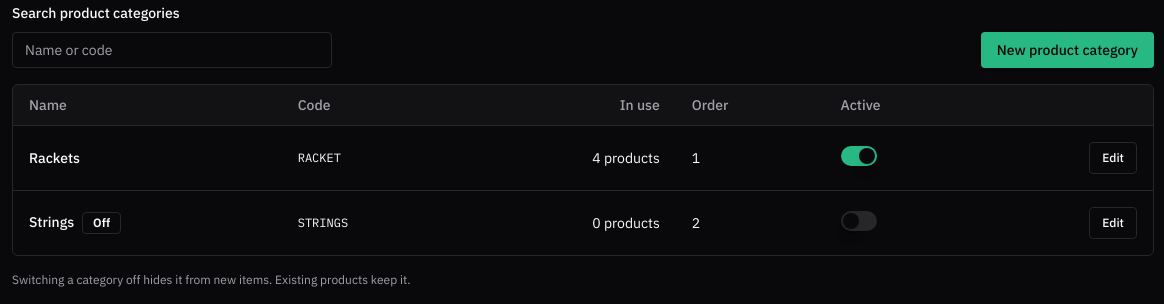
Scenario: category manager › lists categories with usage, flags switched-off ones and searches by name or code
The image size is (1164, 304).
Expected: the text "4 products" is shown, left=460, top=125, right=676, bottom=190
Expected: the text "Off" is shown, left=82, top=212, right=121, bottom=234
Type "string" into the field labelled "Search product categories" at (172, 50), box left=12, top=32, right=332, bottom=68
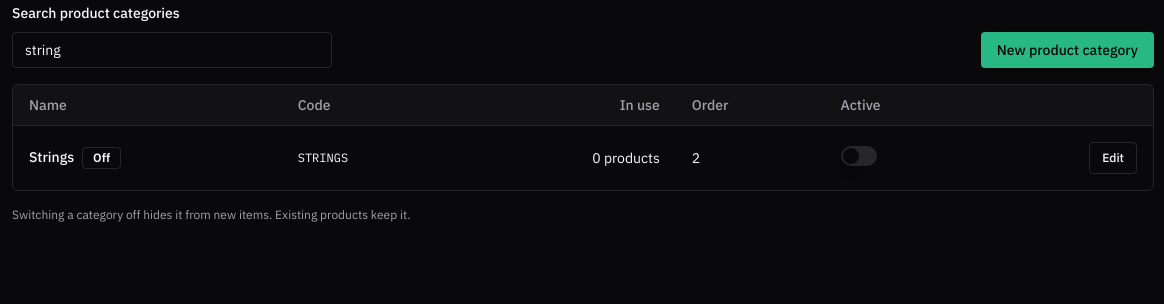
Expected: the text "Strings" is shown, left=29, top=148, right=74, bottom=166
Result: the text "Rackets" is gone
